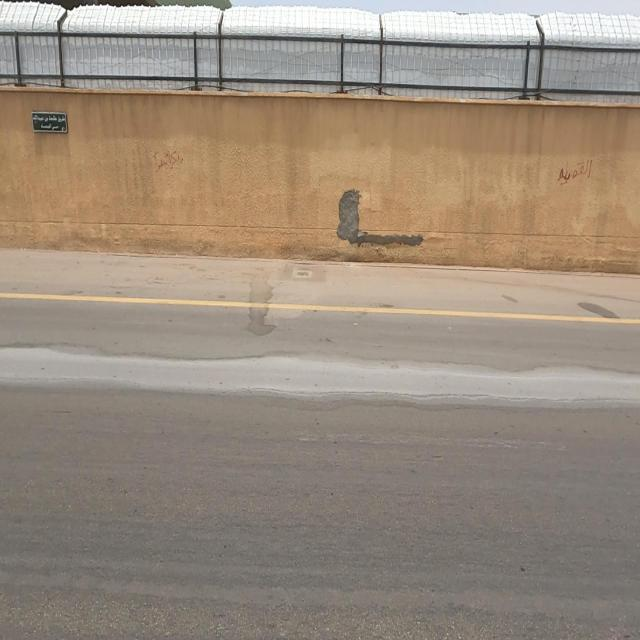Graffiti: (560, 159, 594, 188), (154, 148, 185, 173)
